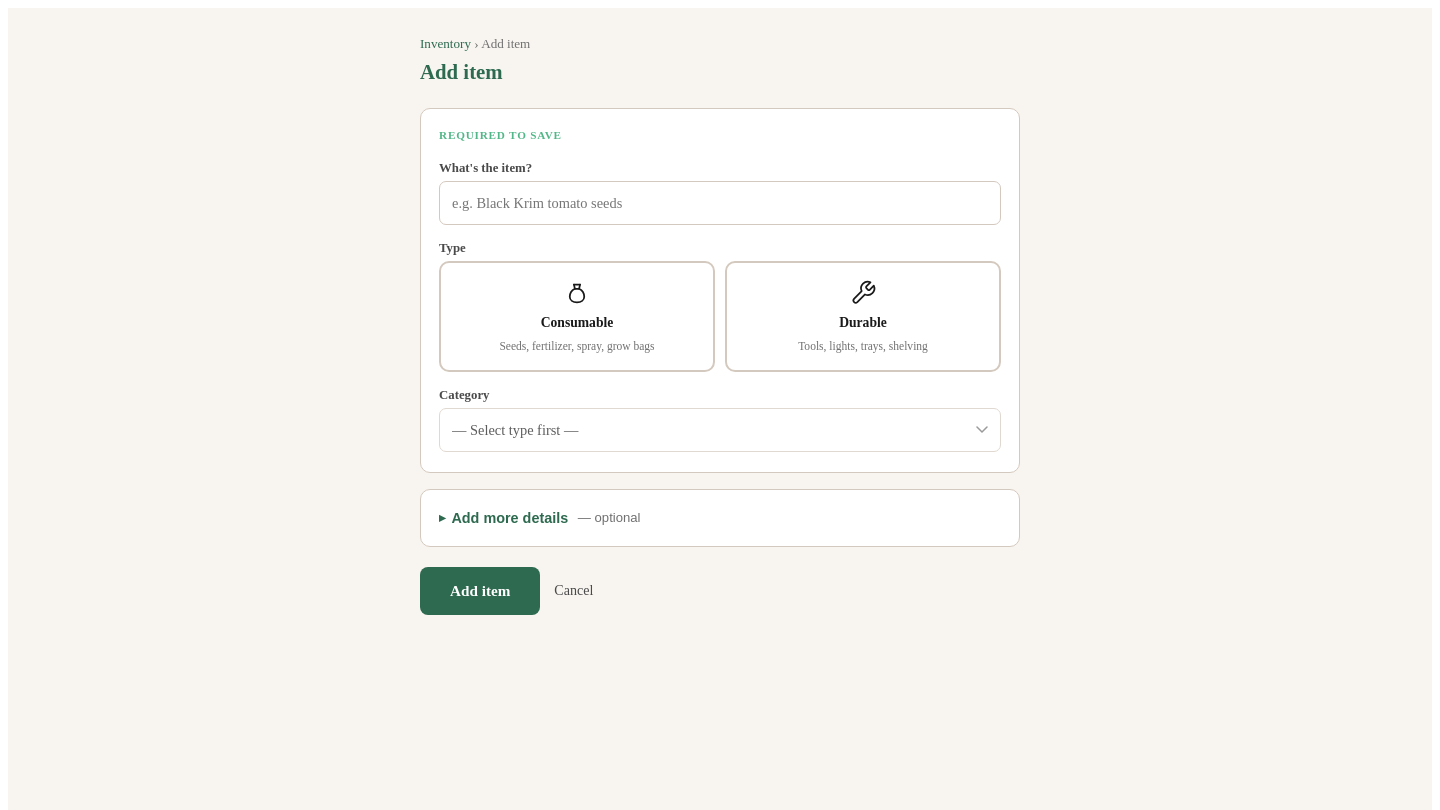
Test: InventoryAdd — category EnumSelect (type-gated, filtered) › selecting Durable enables category and shows ONLY durable categories
Click the text "Durable". click: (863, 323)
box: x1=839 y1=315 x2=887 y2=331
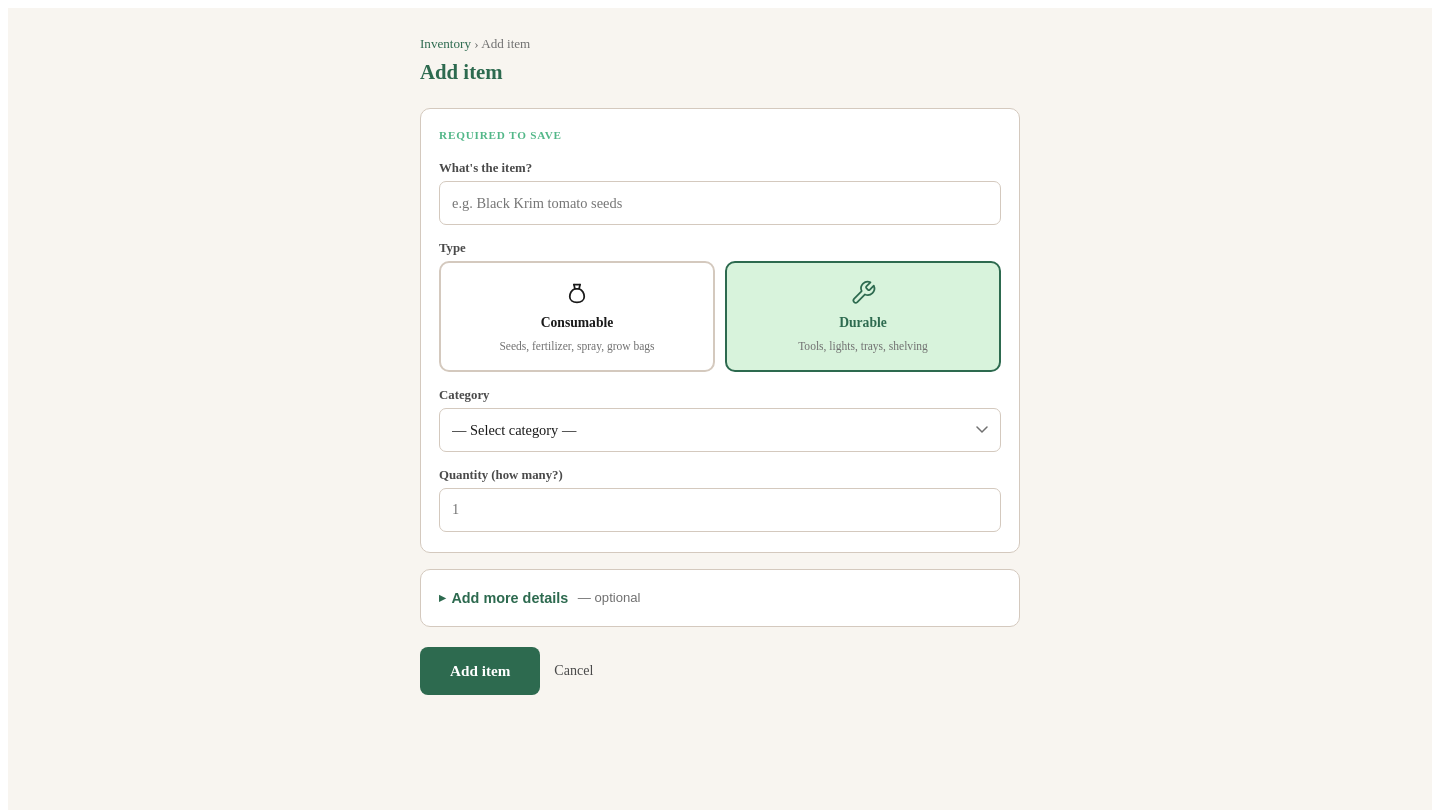
Expected: the text "Tools, lights, trays, shelving" is shown, x1=798 y1=339 x2=928 y2=354
Result: the dropdown labelled "Category" is enabled at x1=439 y1=408 x2=1001 y2=452
